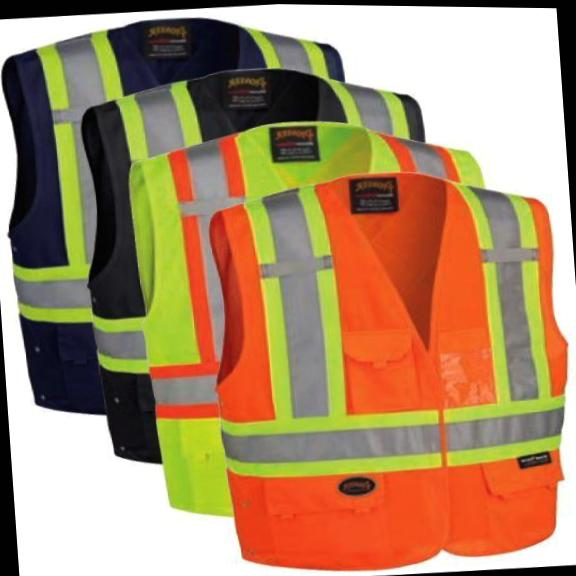safety_vest: (127, 104, 511, 523), (199, 161, 576, 576), (76, 53, 450, 470), (0, 4, 366, 426)
